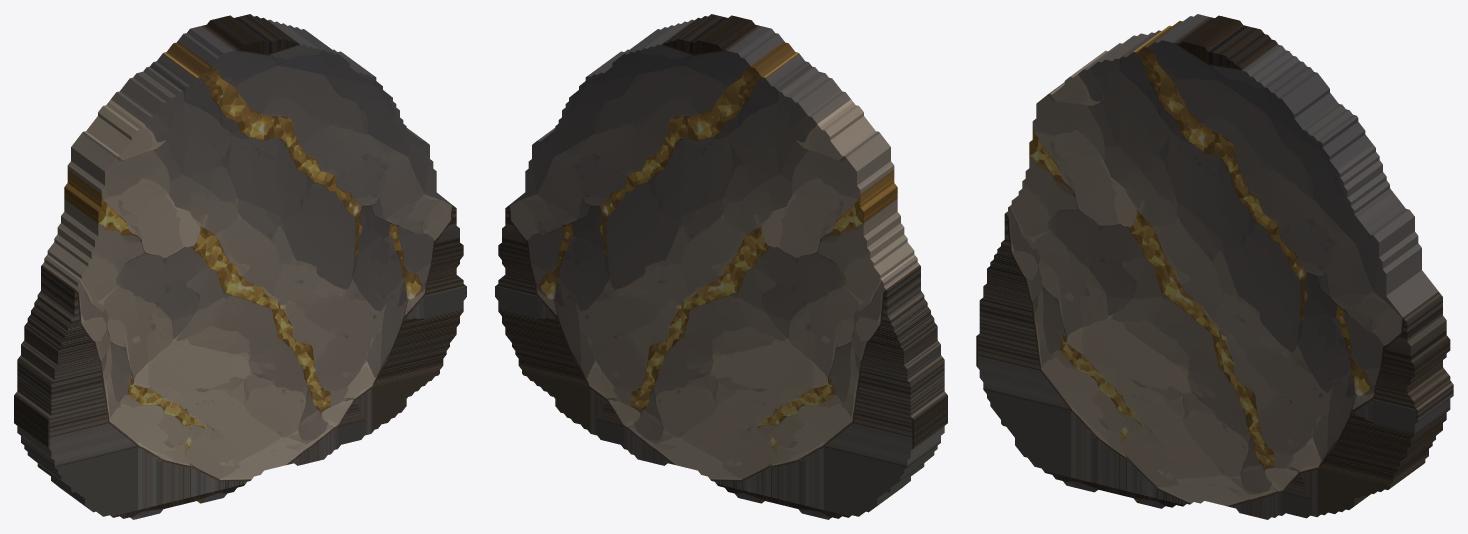
File: gold_vein.glb
The picture shows the model from 3 angles, left to right: view 1: azimuth 30°, elevation 25°; view 2: azimuth 150°, elevation 25°; view 3: azimuth 330°, elevation 25°; orthographic projection. The views are drawn at different scales.
Parts seen in each view (by area): view 1: world; view 2: world; view 3: world.
Boxes of the visible parts, x1,y1,x2,y2 form: world: [14, 14, 466, 519]; world: [495, 14, 947, 519]; world: [976, 14, 1453, 519].
Size of the model in its own units: 1.03 by 1.05 by 0.1439.
1 material, 1 textured.
